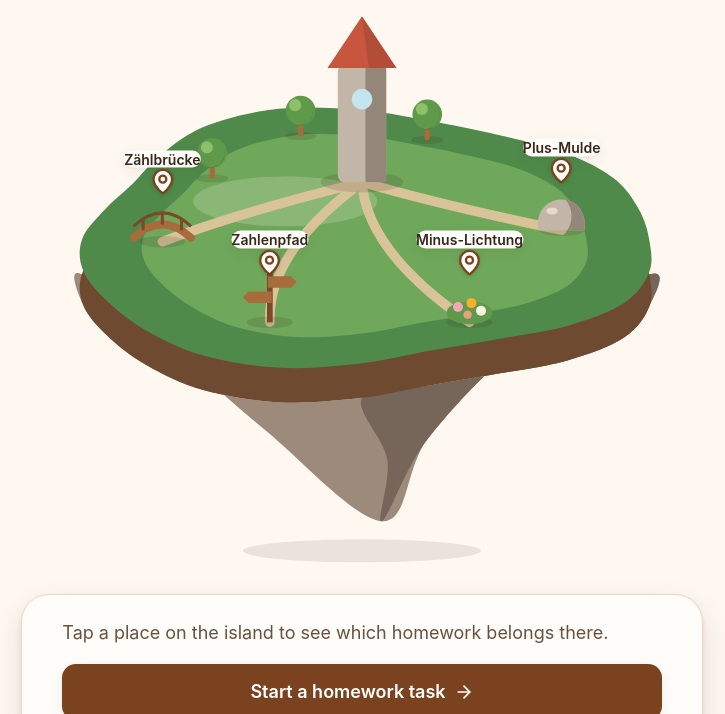
Test case: IslandView › keeps one place selected at a time
Click the button "Zählbrücke" at (162, 173), box top-left (124, 150), bottom-right (200, 196)
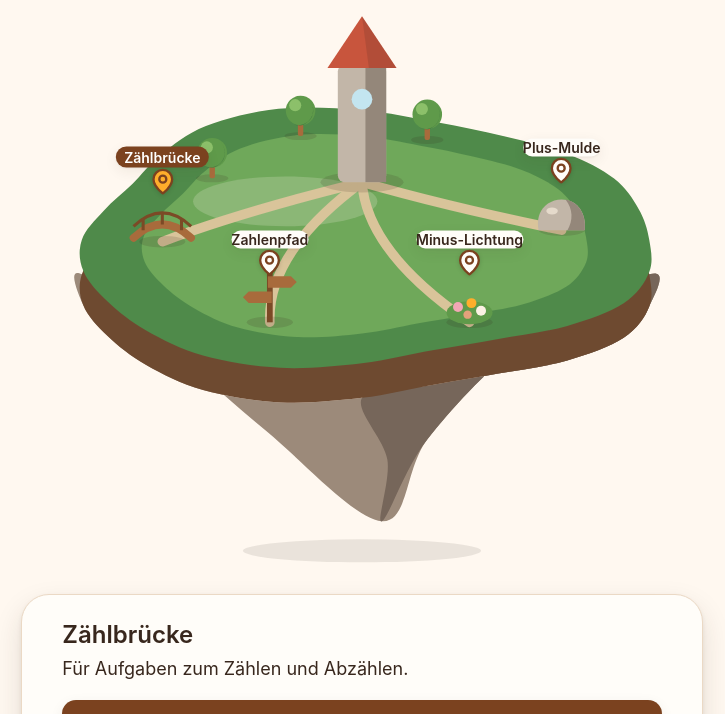
Click the button "Plus-Mulde" at (562, 161), box top-left (523, 139), bottom-right (600, 184)
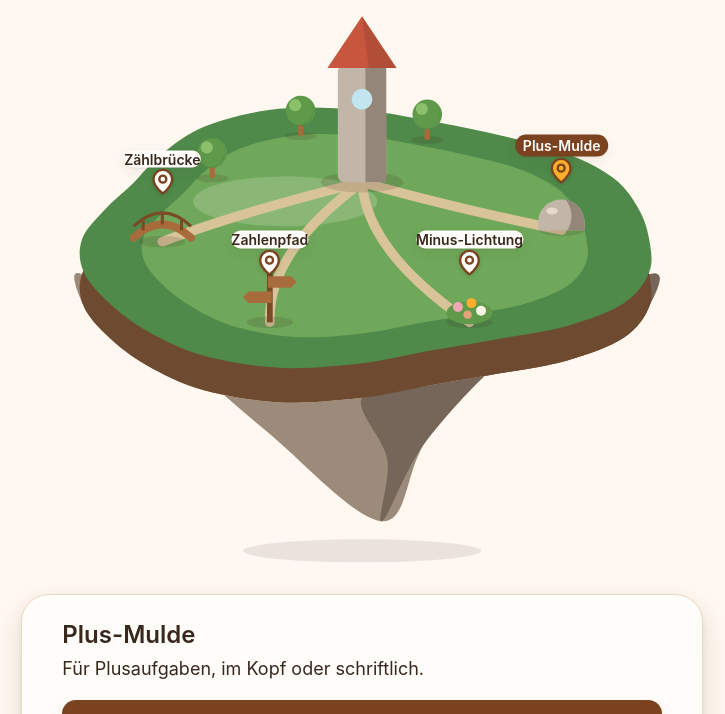
Now the heading "Plus-Mulde" is shown, box top-left (62, 620), bottom-right (195, 649)
